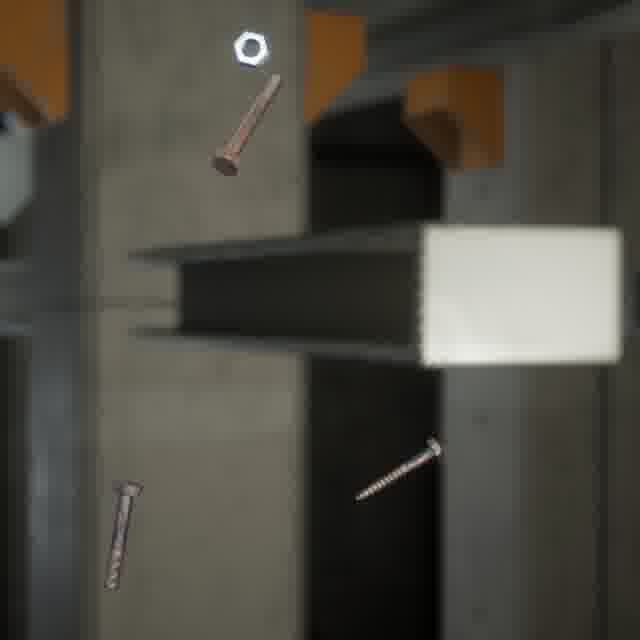bolt: (207, 69, 287, 180), (351, 433, 449, 504), (99, 475, 147, 594)
nut: (228, 26, 274, 73)
